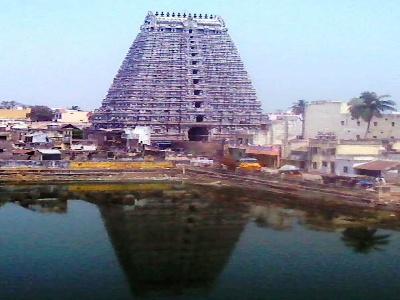gopura: (104, 16, 271, 131)
